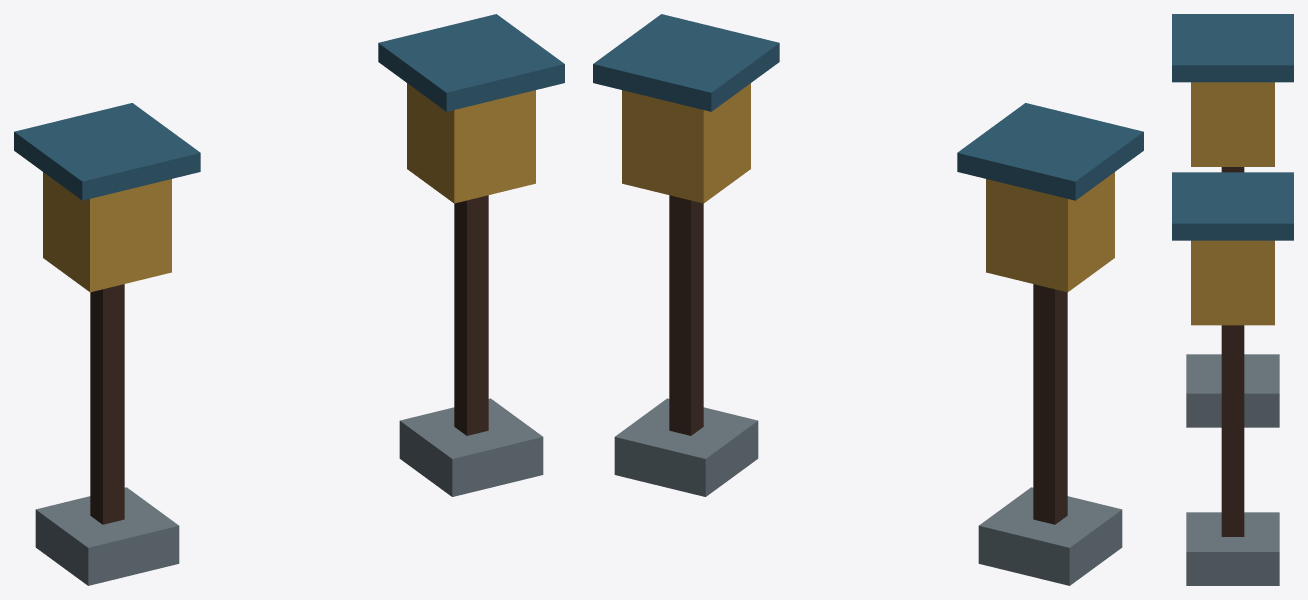
File: Blockland_LanternPair_Simple.glb
The picture shows the model from 3 angles, left to right: view 1: azimuth 30°, elevation 25°; view 2: azimuth 150°, elevation 25°; view 3: azimuth 270°, elevation 25°; orthographic projection. The views are drawn at different scales.
Visible parts, largest first — view 1: Blockland_LanternPair_Simple; view 2: Blockland_LanternPair_Simple; view 3: Blockland_LanternPair_Simple.
Part boxes in pixels (x1,y1,x2,y2): Blockland_LanternPair_Simple: (14, 14, 564, 585); Blockland_LanternPair_Simple: (593, 14, 1143, 585); Blockland_LanternPair_Simple: (1172, 14, 1293, 585).
Bounding box in the file's own units: 2.65 × 2.17 × 0.65.
